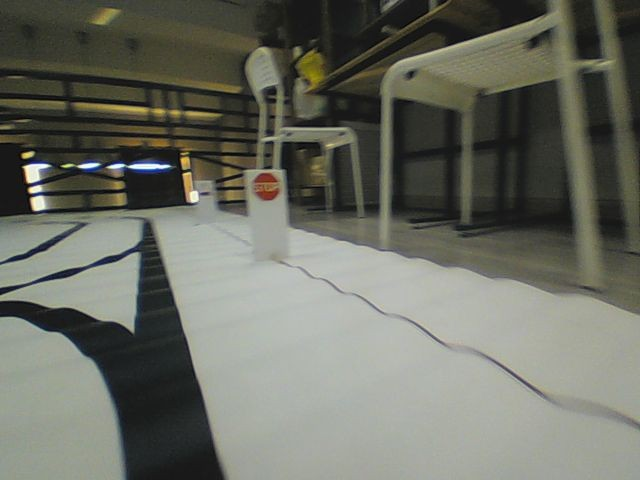Stop: (251, 171, 280, 201)
